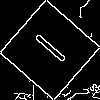I: (24, 24, 69, 65)
